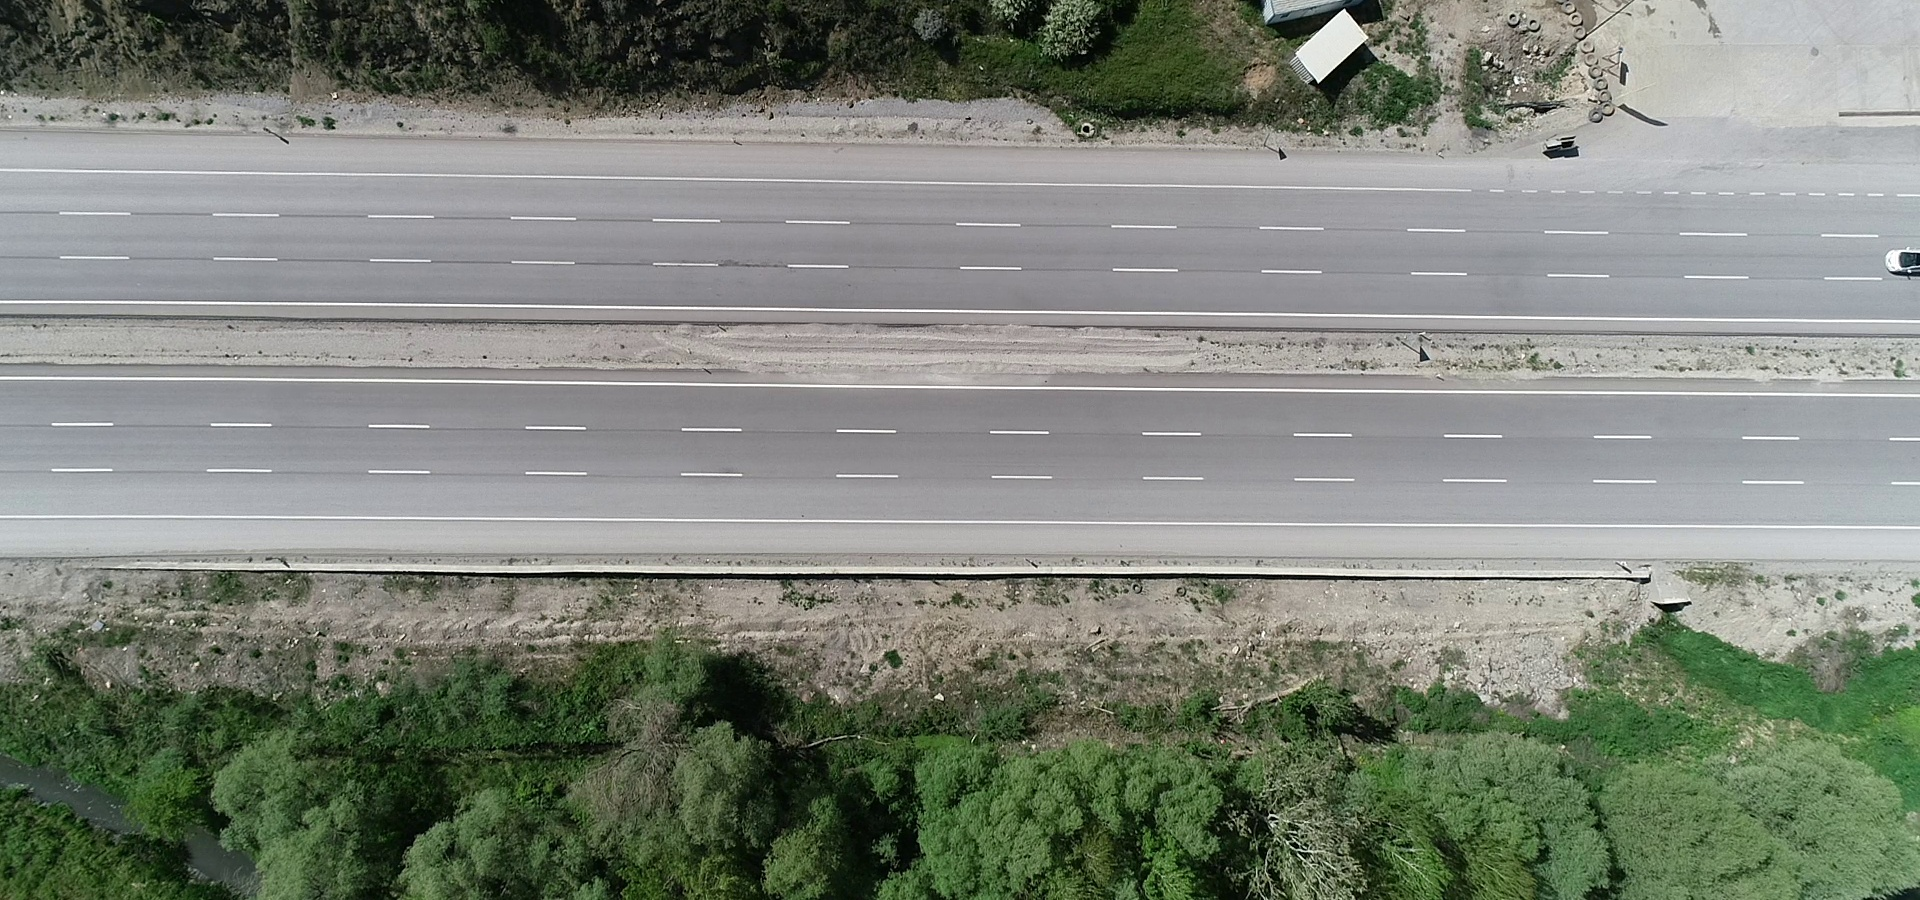araba: (1880, 242, 1920, 280)
